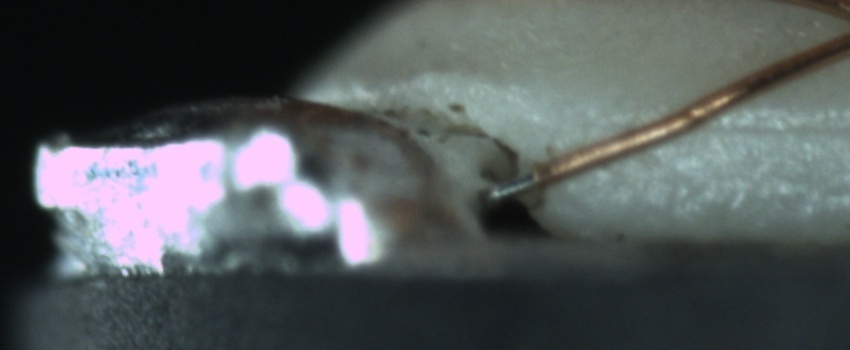DL: (631, 97, 849, 157)
TS: (488, 170, 544, 201)
TTCW: (483, 162, 550, 202)
